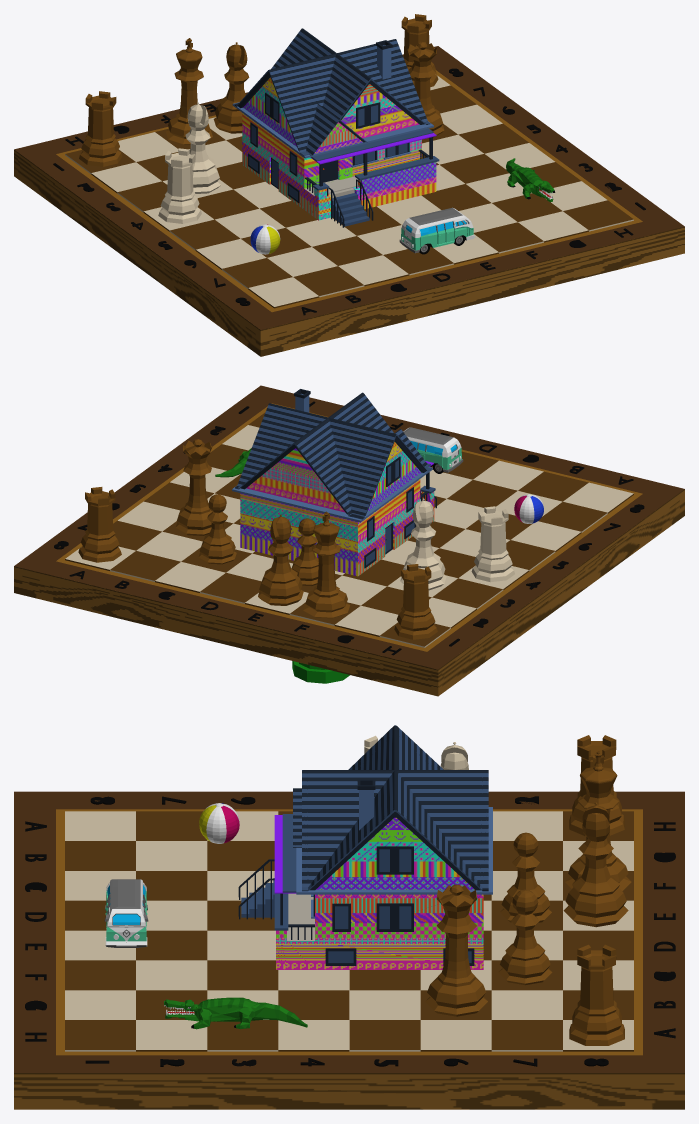
The picture shows the model from 3 angles, top to bottom: view 1: azimuth 30°, elevation 25°; view 2: azimuth 150°, elevation 25°; view 3: azimuth 270°, elevation 25°; orthographic projection. The views are drawn at different scales.
Visible parts, largest first — view 1: Cube.002, Cube.676, VEHICLES_VAN, ANIMAL_COCODRILO, OBJRANDOM_BEACHBALL; view 2: Cube.002, Cube.676, VEHICLES_VAN, UNDERGROUND_PIPES, OBJRANDOM_BEACHBALL; view 3: Cube.002, Cube.676, VEHICLES_VAN, ANIMAL_COCODRILO, OBJRANDOM_BEACHBALL.
Part boxes in pixels (bbox=[...]): Cube.002: bbox=[14, 14, 684, 356]; Cube.676: bbox=[232, 28, 439, 227]; VEHICLES_VAN: bbox=[399, 207, 475, 254]; ANIMAL_COCODRILO: bbox=[506, 158, 555, 202]; OBJRANDOM_BEACHBALL: bbox=[250, 224, 280, 254]; Cube.002: bbox=[14, 385, 684, 696]; Cube.676: bbox=[232, 389, 436, 576]; VEHICLES_VAN: bbox=[403, 427, 463, 473]; UNDERGROUND_PIPES: bbox=[292, 661, 349, 683]; OBJRANDOM_BEACHBALL: bbox=[514, 494, 543, 523]; Cube.002: bbox=[14, 735, 684, 1109]; Cube.676: bbox=[238, 725, 492, 969]; VEHICLES_VAN: bbox=[104, 879, 148, 947]; ANIMAL_COCODRILO: bbox=[164, 997, 307, 1029]; OBJRANDOM_BEACHBALL: bbox=[199, 803, 239, 843].
Bounding box in the file's own units: 3981 × 2068 × 4012.
39 materials, 6 textured.
